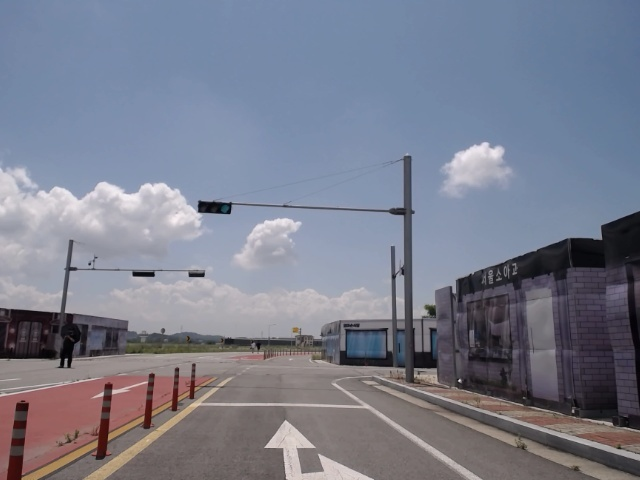green_3: (199, 201, 231, 214)
